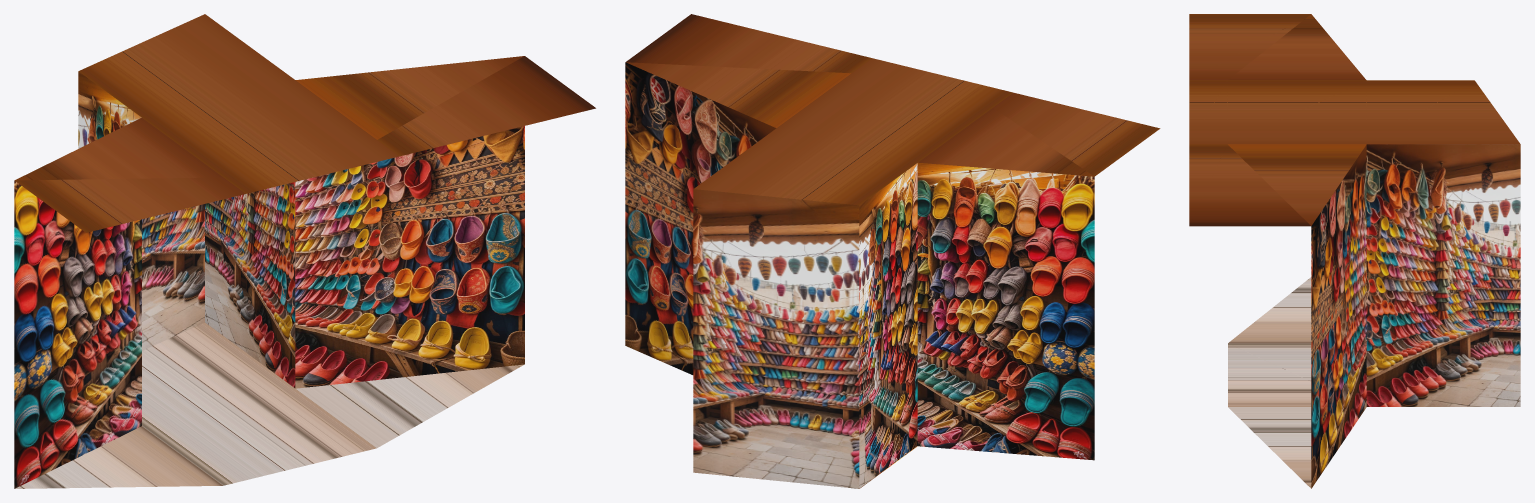
The model's file is Hoodie_4_bg.glb.
3 renders of one model, left to right at view 1: azimuth 30°, elevation 25°; view 2: azimuth 150°, elevation 25°; view 3: azimuth 270°, elevation 25°, orthographic. The views are drawn at different scales.
Parts seen in each view (by area): view 1: Plane; view 2: Plane; view 3: Plane.
Part boxes in pixels (<box>): Plane: <box>14,14,595,488</box>; Plane: <box>625,14,1160,488</box>; Plane: <box>1189,14,1520,488</box>.
Size of the model in its own units: 30.83 by 17.8 by 20.35.
1 material, 1 textured.
